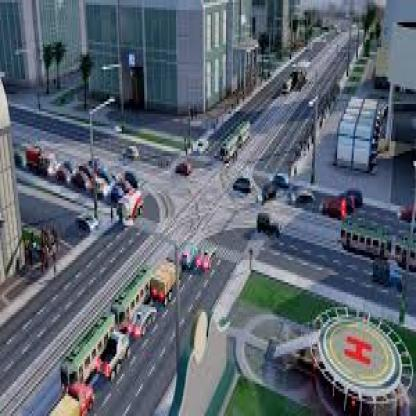car: (220, 134, 242, 179), (228, 174, 258, 201), (173, 152, 196, 183), (124, 132, 140, 166)
